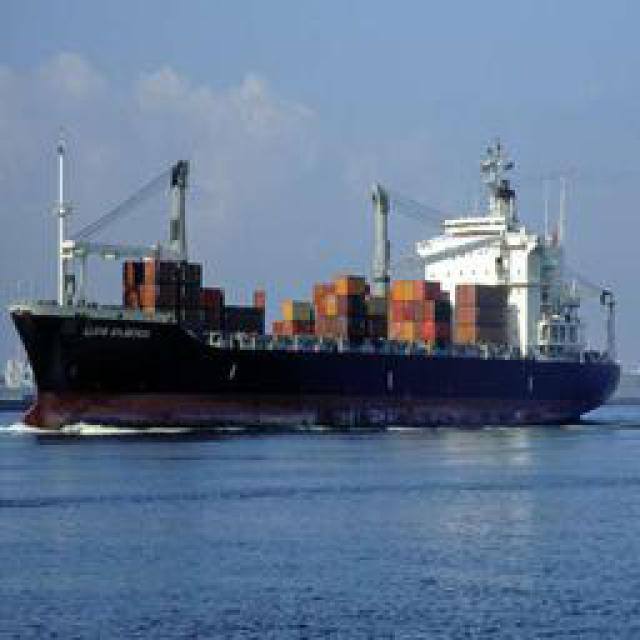Ship: (8, 130, 616, 413)
